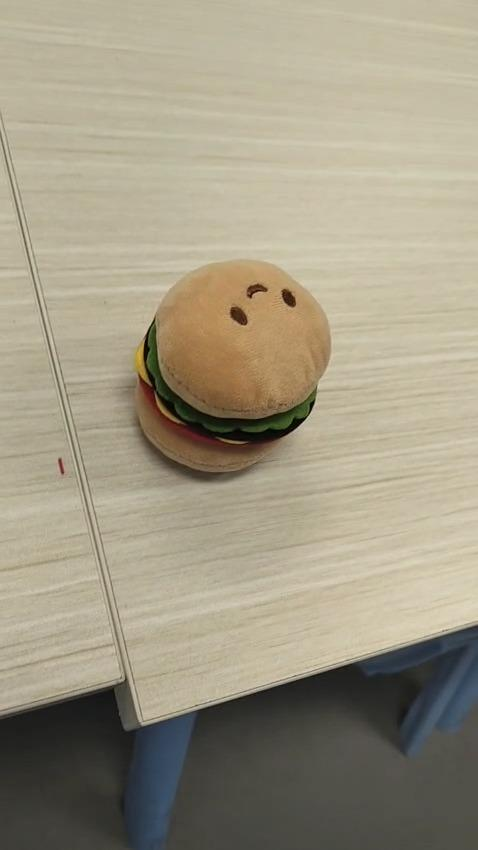hamburger: (133, 257, 332, 474)
